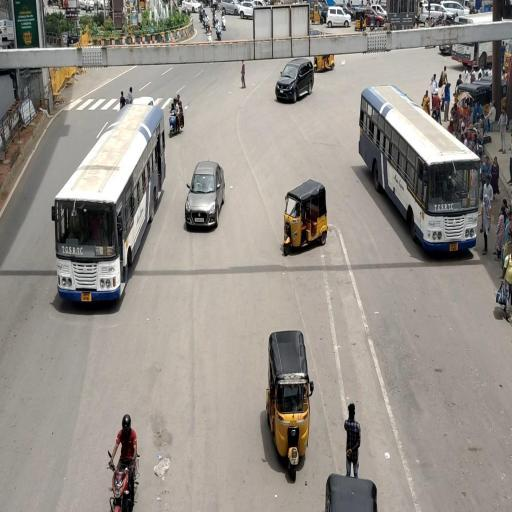helmet: (97, 390, 166, 512), (168, 90, 186, 136)
